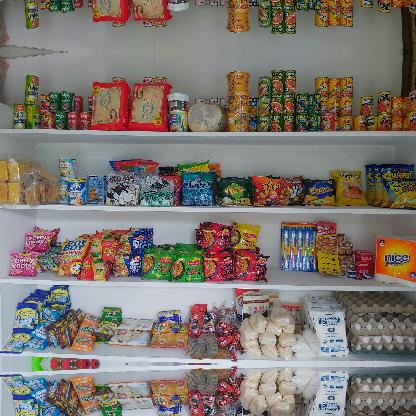Lady-s-Choice: (187, 103, 225, 131)
